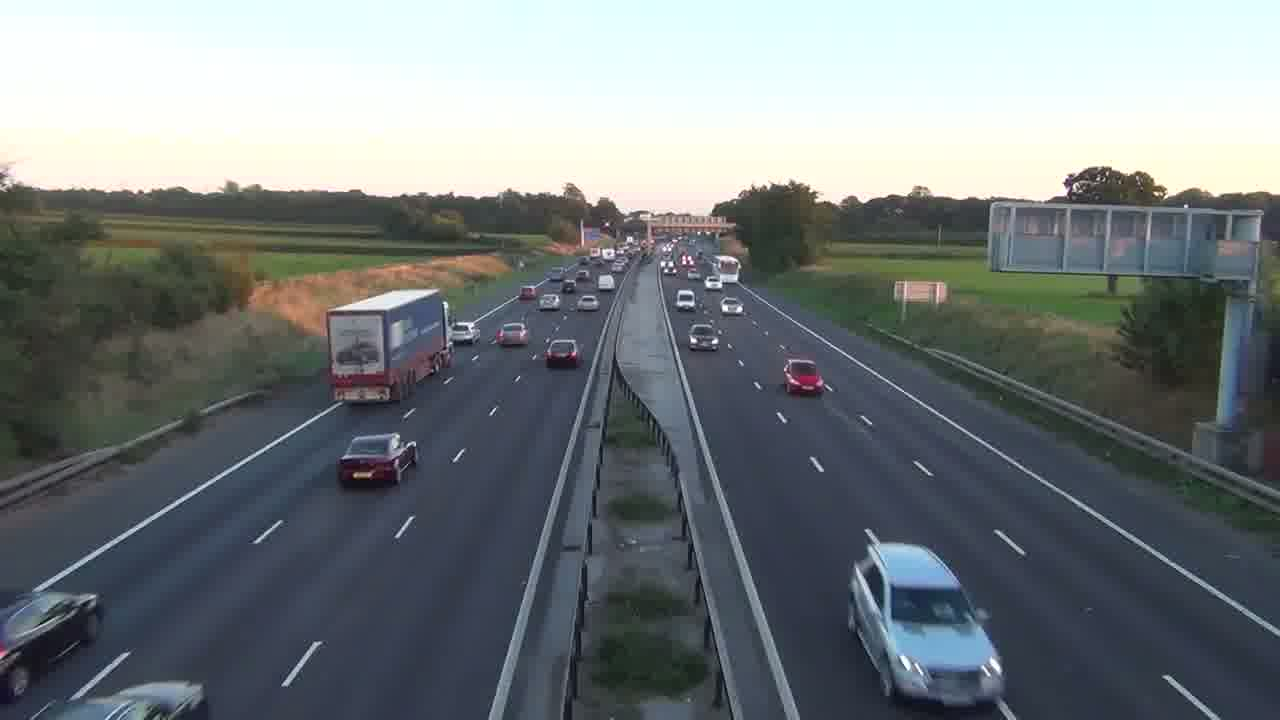car: (847, 528, 1008, 708), (0, 589, 104, 704), (29, 680, 209, 719), (336, 431, 419, 486), (782, 358, 831, 397), (544, 338, 582, 370), (494, 321, 530, 348), (688, 323, 720, 351), (447, 319, 480, 346), (674, 288, 697, 312), (575, 292, 599, 312), (537, 291, 562, 310), (720, 297, 744, 315)
truck: (326, 286, 454, 404)
